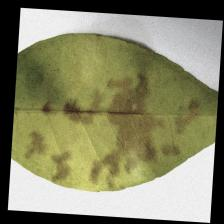black spot: (25, 64, 156, 162)
